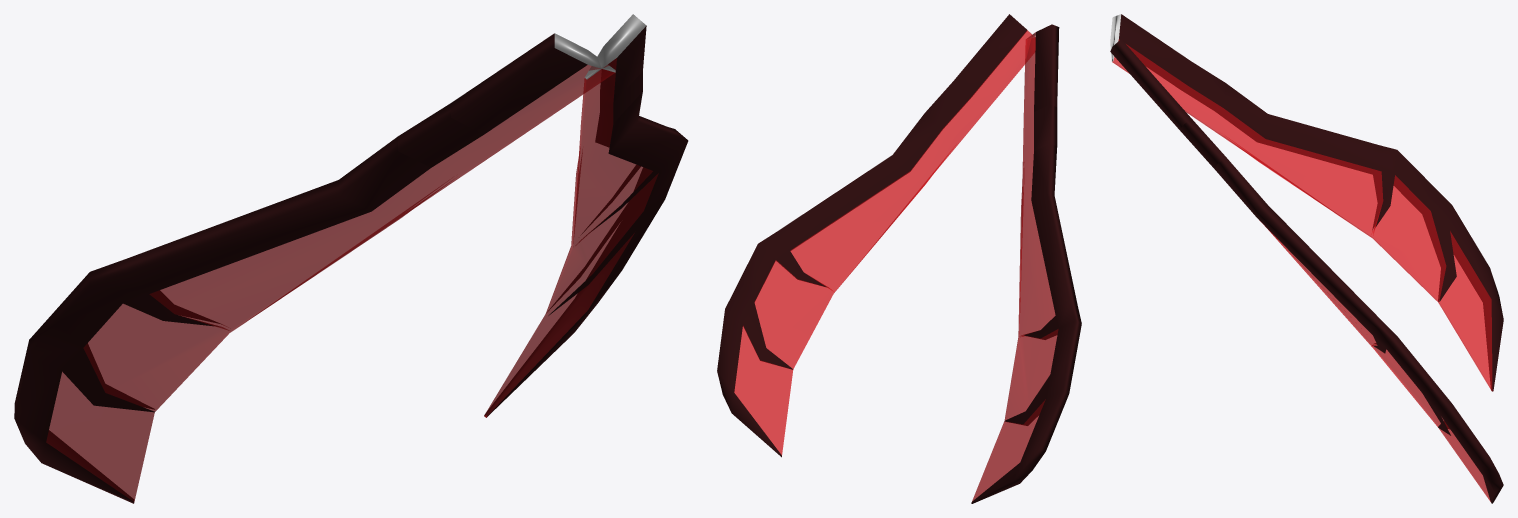
File: wings.fbx
The picture shows the model from 3 angles, left to right: view 1: azimuth 30°, elevation 25°; view 2: azimuth 150°, elevation 25°; view 3: azimuth 270°, elevation 25°; orthographic projection. The views are drawn at different scales.
Visible parts, largest first — view 1: mesh06, mesh07; view 2: mesh07, mesh06; view 3: mesh06, mesh07.
Part boxes in pixels (bbox=[...]): mesh06: bbox=[14, 33, 615, 503]; mesh07: bbox=[484, 14, 688, 417]; mesh07: bbox=[717, 14, 1035, 457]; mesh06: bbox=[971, 24, 1081, 503]; mesh06: bbox=[1110, 14, 1503, 391]; mesh07: bbox=[1110, 39, 1503, 503].
Bounding box in the file's own units: 87.62 × 84.92 × 71.9.
